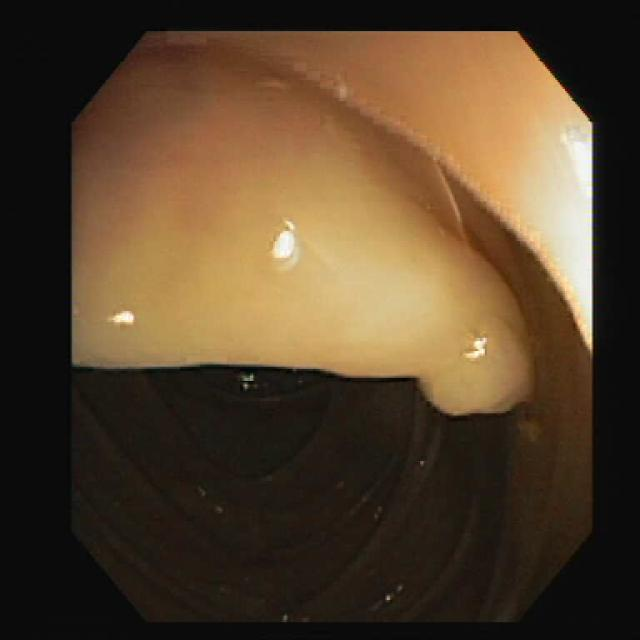tumor: (420, 249, 528, 413)
